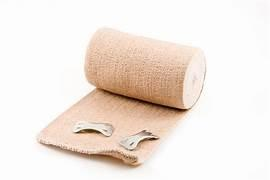cotton: (38, 28, 204, 164)
